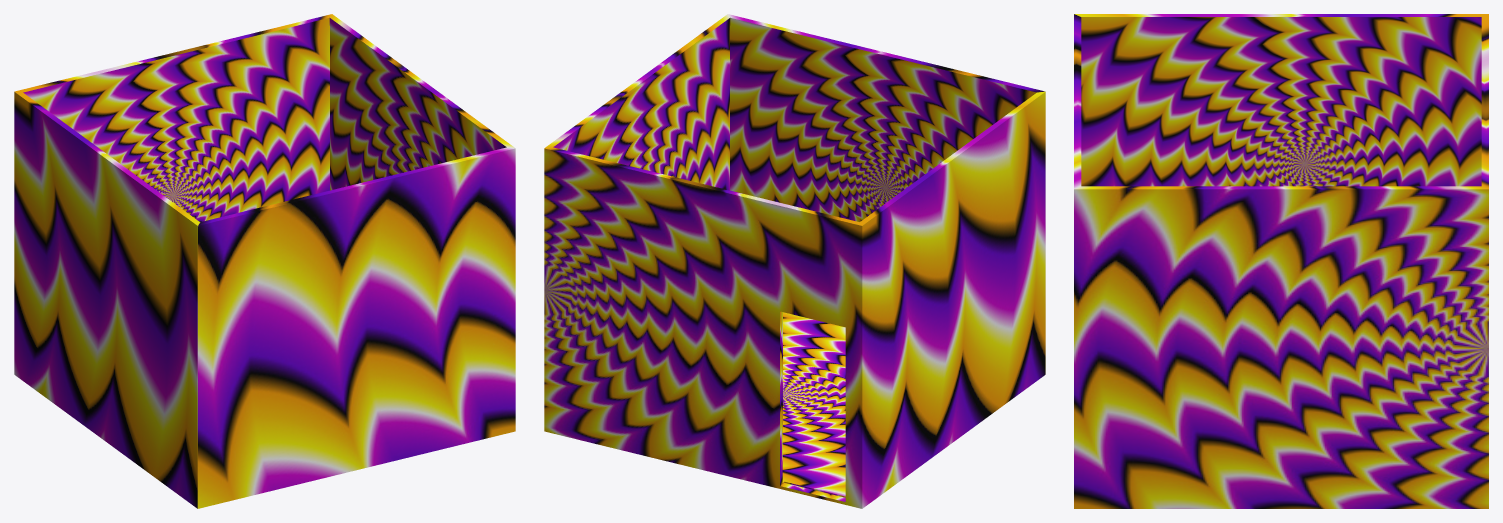
File: salle_4.glb
3 renders of one model, left to right at view 1: azimuth 30°, elevation 25°; view 2: azimuth 150°, elevation 25°; view 3: azimuth 270°, elevation 25°, orthographic. The views are drawn at different scales.
Visible parts, largest first — view 1: Cube; view 2: Cube; view 3: Cube.
Boxes of the visible parts, x1,y1,x2,y2 form: Cube: [14, 14, 515, 508]; Cube: [544, 14, 1045, 508]; Cube: [1074, 14, 1488, 508].
Bounding box in the file's own units: 9.69 × 8.25 × 9.69.
2 materials, 2 textured.
